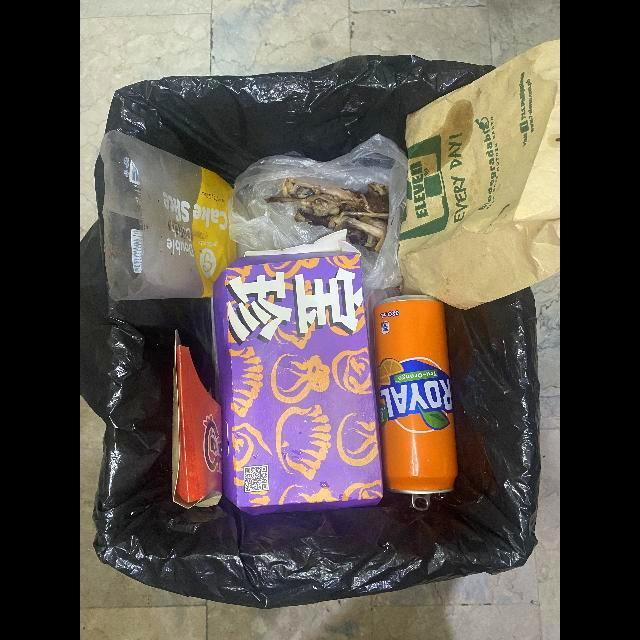aluminum: (373, 295, 458, 510)
cardboard: (211, 231, 384, 518), (172, 330, 222, 510)
food_wrapper: (96, 131, 238, 308)
left_over_food: (265, 178, 389, 259)
paper: (398, 39, 560, 310)
plastic_bag: (228, 134, 408, 293)
